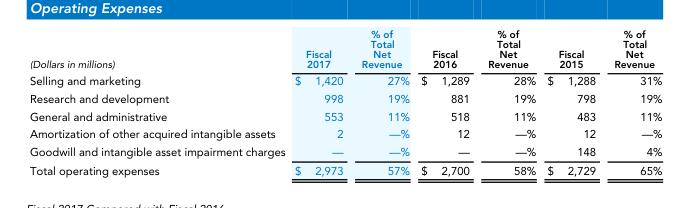table: (28, 29, 661, 176)
table column: (28, 29, 289, 176), (414, 29, 478, 176), (540, 29, 604, 176), (351, 29, 414, 176), (289, 29, 351, 176), (478, 29, 540, 176), (604, 29, 661, 176)
table column header: (28, 29, 661, 72)
table row: (28, 29, 661, 72), (28, 72, 661, 90), (28, 90, 661, 108), (28, 125, 661, 143), (28, 143, 661, 161), (28, 108, 661, 125), (28, 161, 661, 176)
